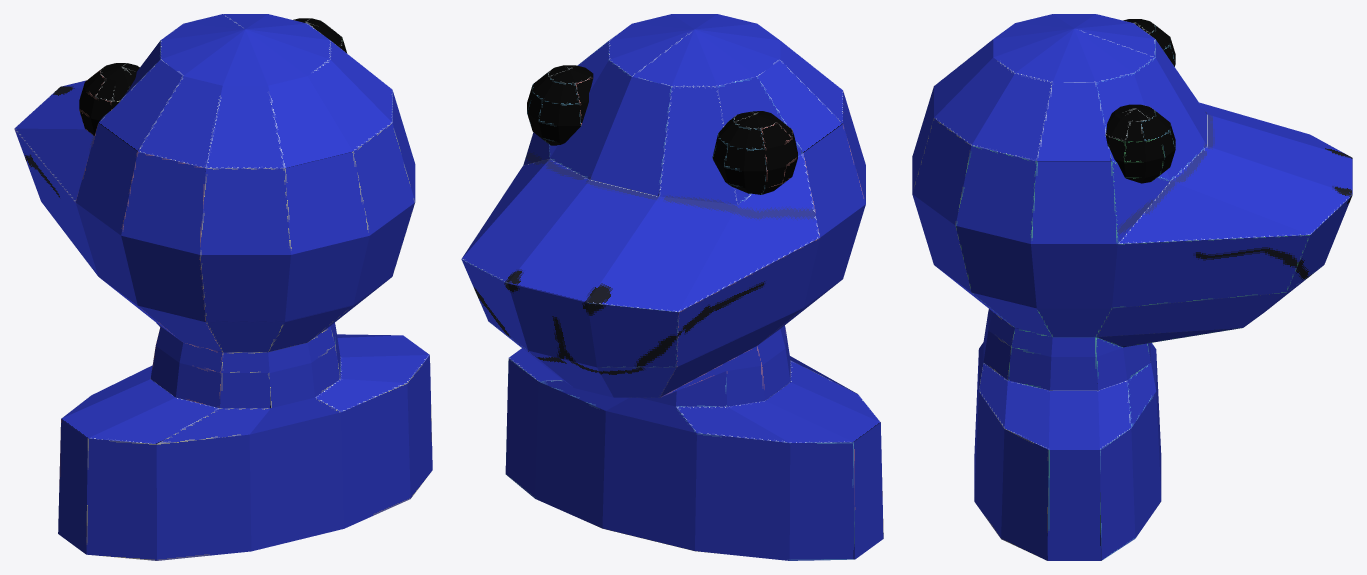
Rendered from noburger.gltf.
3 views of the same model, side by side, from view 1: azimuth 30°, elevation 25°; view 2: azimuth 150°, elevation 25°; view 3: azimuth 270°, elevation 25° (orthographic). The views are drawn at different scales.
Visible parts, largest first — view 1: sphere; view 2: sphere; view 3: sphere.
Boxes of the visible parts, left/top/right/bottom form: sphere: left=14, top=14, right=432, bottom=560; sphere: left=461, top=14, right=883, bottom=560; sphere: left=912, top=14, right=1352, bottom=560.
Size of the model in its own units: 1.18 by 1.55 by 1.36.
Materials: 1 (1 with a texture image).
